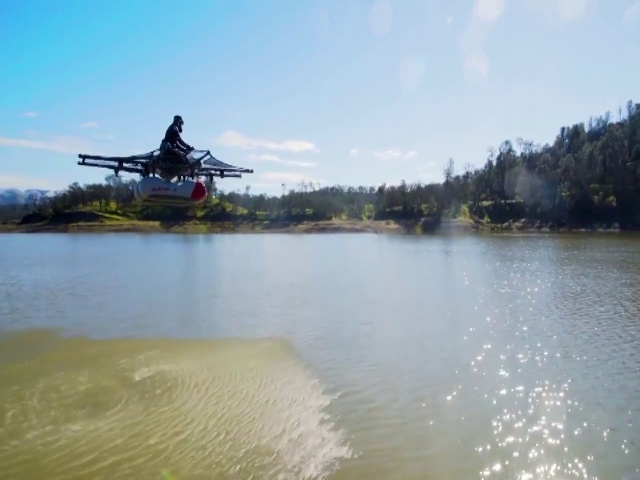drone: (74, 145, 255, 209)
